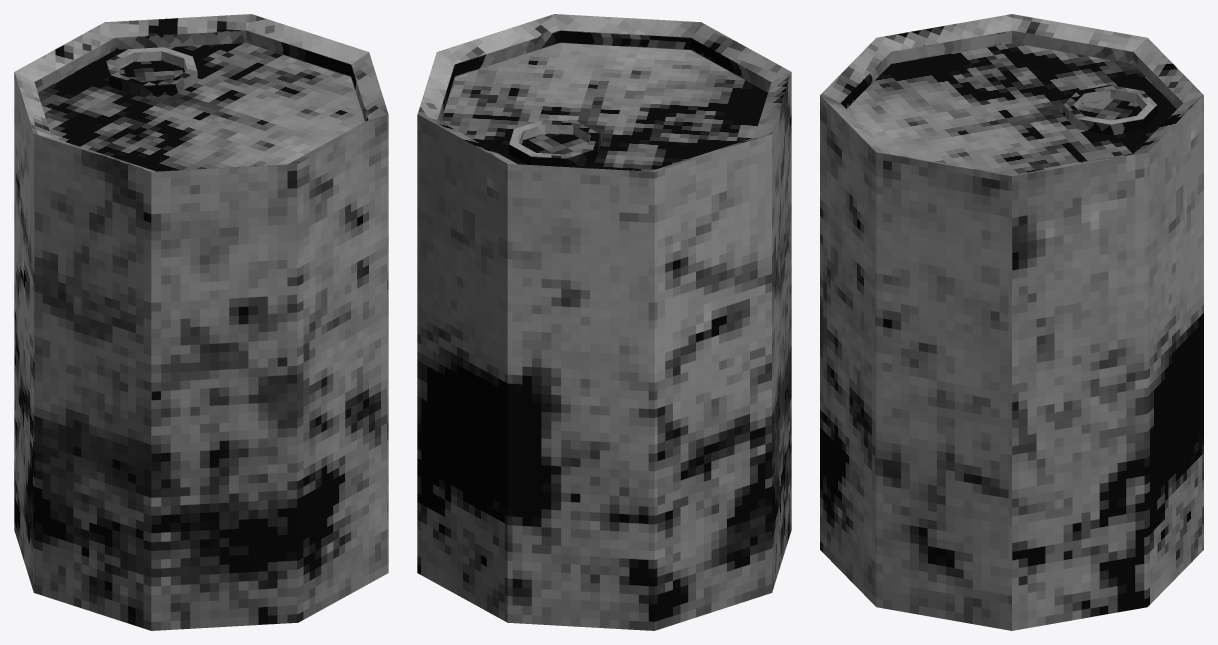
File: MetalGalon.fbx
3 renders of one model, left to right at view 1: azimuth 30°, elevation 25°; view 2: azimuth 150°, elevation 25°; view 3: azimuth 270°, elevation 25°, orthographic.
Parts seen in each view (by area): view 1: Cylinder; view 2: Cylinder; view 3: Cylinder.
Part boxes in pixels (left/top/right/bottom): Cylinder: left=14, top=14, right=388, bottom=630; Cylinder: left=417, top=14, right=791, bottom=630; Cylinder: left=820, top=14, right=1203, bottom=630.
Bounding box in the file's own units: 0.5 × 0.6539 × 0.5.
Materials: 1 (1 with a texture image).
